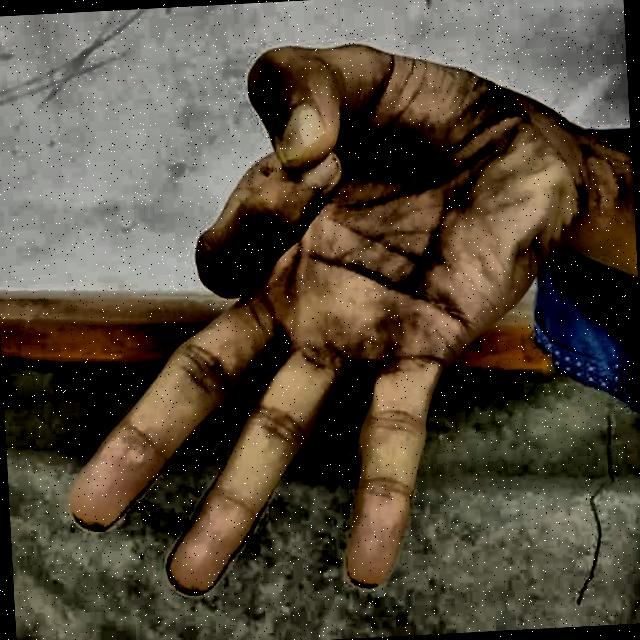Fa: (29, 15, 604, 632)
